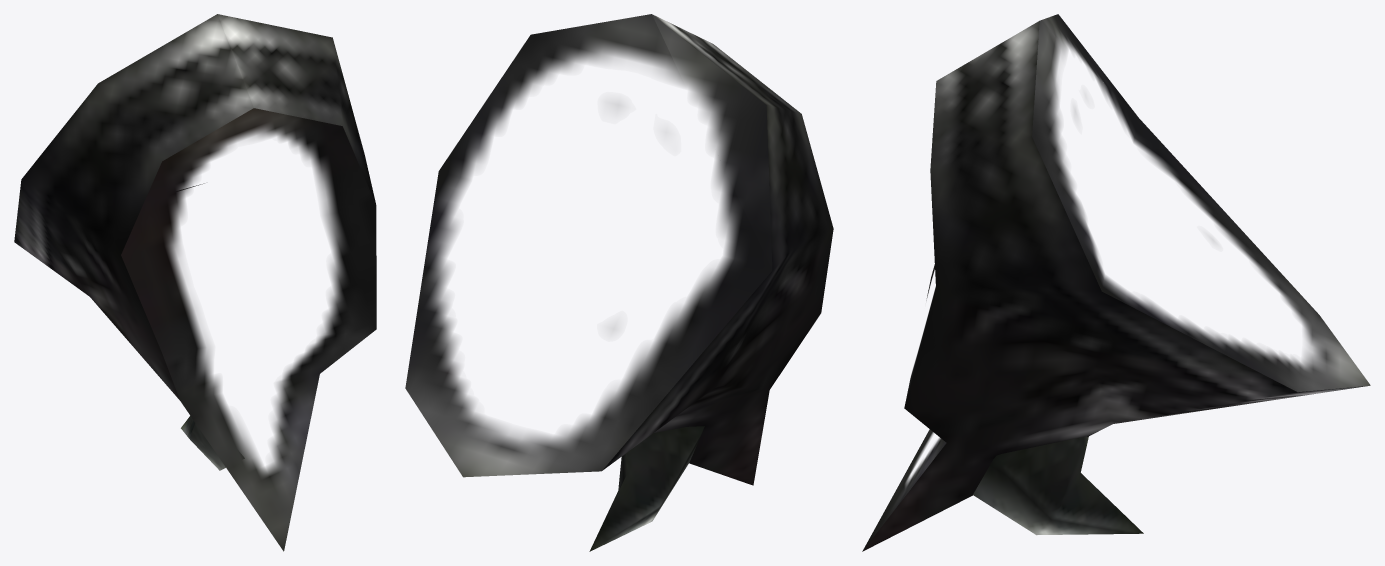
Rendered from shadow_knight_7_knee_left.glb.
The picture shows the model from 3 angles, left to right: view 1: azimuth 30°, elevation 25°; view 2: azimuth 150°, elevation 25°; view 3: azimuth 270°, elevation 25°; orthographic projection. The views are drawn at different scales.
Visible parts, largest first — view 1: model_shadow_knight_7_knee_left; view 2: model_shadow_knight_7_knee_left; view 3: model_shadow_knight_7_knee_left.
Boxes of the visible parts, bbox=[...] form: model_shadow_knight_7_knee_left: bbox=[14, 14, 376, 551]; model_shadow_knight_7_knee_left: bbox=[405, 14, 833, 551]; model_shadow_knight_7_knee_left: bbox=[862, 14, 1370, 551].
Size of the model in its own units: 0.2261 by 0.3268 by 0.2801.
1 material, 1 textured.
